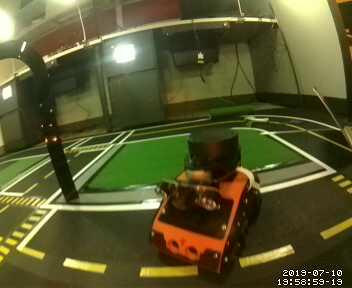pheeno: (147, 129, 265, 285)
